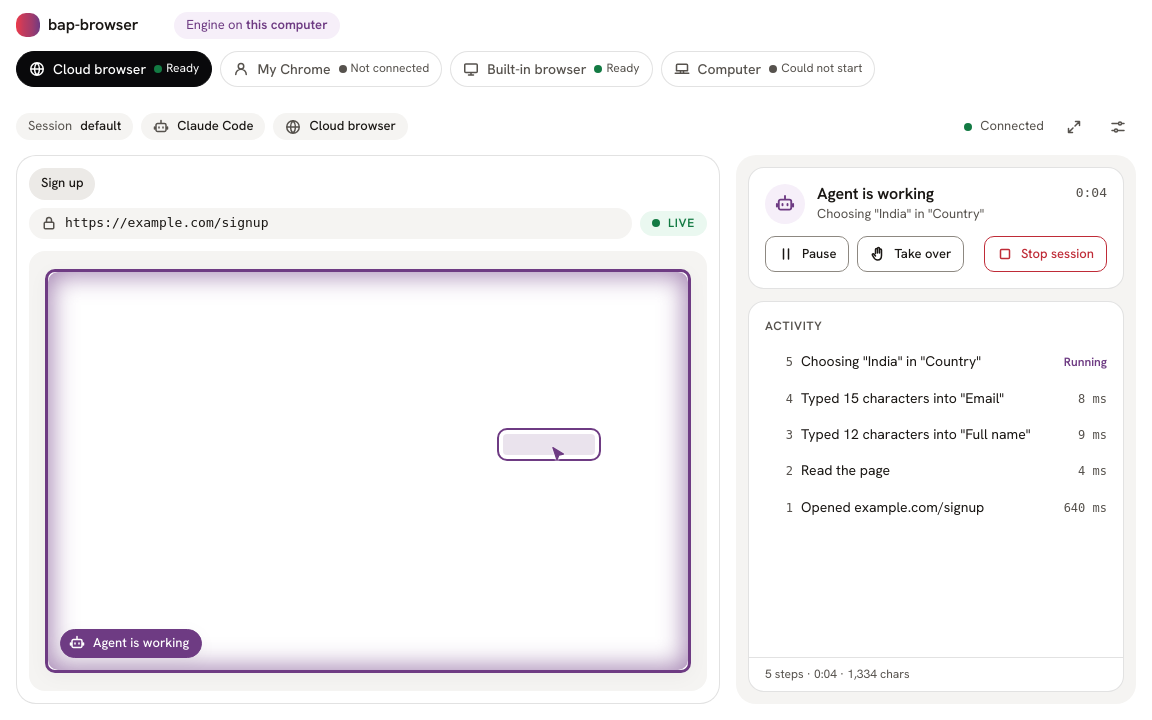
Test case: the window of three pages (spec 9.16) › says why the desktop could not be started, in words of a desktop
The image size is (1152, 720).
Click the tab "Computer Could not start" at (768,69), box [661,51,876,87]
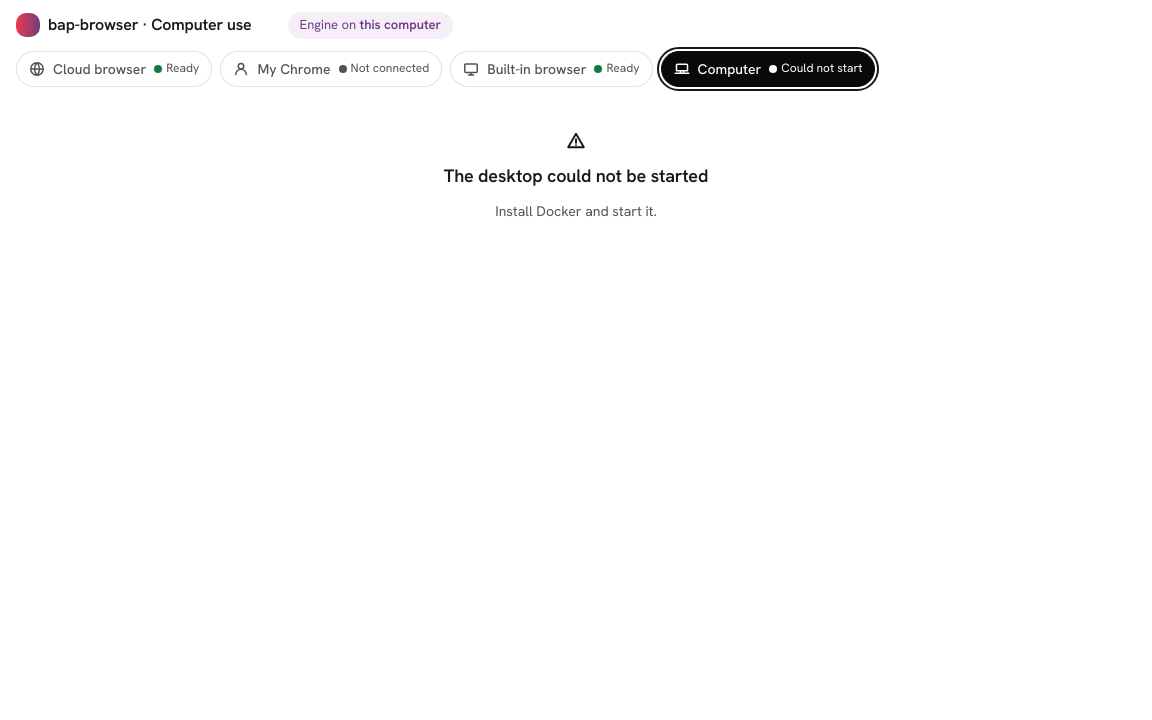
Result: the heading "The desktop could not be started" is shown at [444,163,708,189]
Result: the text "Install Docker and start it." is shown at [495,201,657,221]
